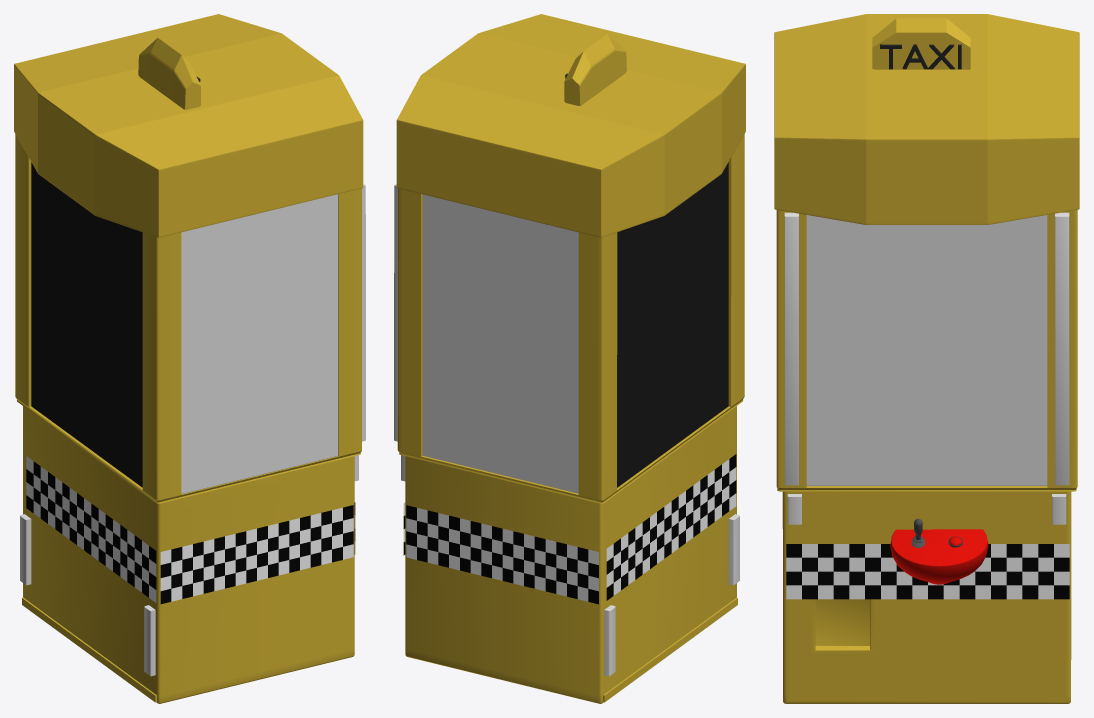
The model's file is taximachine002.fbx.
The picture shows the model from 3 angles, left to right: view 1: azimuth 30°, elevation 25°; view 2: azimuth 150°, elevation 25°; view 3: azimuth 270°, elevation 25°; orthographic projection. The views are drawn at different scales.
Parts seen in each view (by area): view 1: Plane, Cube, WINDOWS, Cube.004, Cube.007, Plane.002, Plane.001, Cube.002, Cube.003, Cube.001; view 2: Plane, Cube, WINDOWS.001, Cube.004, Cube.007, Plane.003, Plane.001, Cube.002, Cube.003, Cube.001; view 3: WINDOWS.002, Plane, Cube, Plane.004, Cube.007, Cube.001, Sphere, Cube.002, Cube.005, Text.
Part boxes in pixels (left/top/right/bottom): Plane: left=14, top=14, right=363, bottom=237; Cube: left=16, top=398, right=361, bottom=703; WINDOWS: left=181, top=194, right=338, bottom=494; Cube.004: left=31, top=162, right=142, bottom=487; Cube.007: left=15, top=134, right=361, bottom=500; Plane.002: left=160, top=505, right=353, bottom=604; Plane.001: left=26, top=456, right=156, bottom=602; Cube.002: left=138, top=38, right=200, bottom=109; Cube.003: left=20, top=514, right=155, bottom=676; Cube.001: left=362, top=184, right=365, bottom=441; Plane: left=396, top=14, right=745, bottom=237; Cube: left=398, top=398, right=743, bottom=703; WINDOWS.001: left=422, top=194, right=578, bottom=493; Cube.004: left=617, top=162, right=728, bottom=487; Cube.007: left=397, top=134, right=744, bottom=500; Plane.003: left=406, top=505, right=598, bottom=604; Plane.001: left=606, top=454, right=736, bottom=600; Cube.002: left=564, top=34, right=626, bottom=105; Cube.003: left=604, top=514, right=739, bottom=676; Cube.001: left=394, top=184, right=397, bottom=441; WINDOWS.002: left=806, top=215, right=1047, bottom=485; Plane: left=774, top=14, right=1079, bottom=224; Cube: left=777, top=211, right=1076, bottom=703; Plane.004: left=786, top=544, right=1069, bottom=599; Cube.007: left=776, top=209, right=1077, bottom=487; Cube.001: left=784, top=212, right=1069, bottom=485; Sphere: left=890, top=529, right=988, bottom=584; Cube.002: left=872, top=18, right=970, bottom=69; Cube.005: left=787, top=494, right=1066, bottom=524; Text: left=880, top=44, right=961, bottom=69.
Size of the model in its own units: 132 by 287 by 127.
